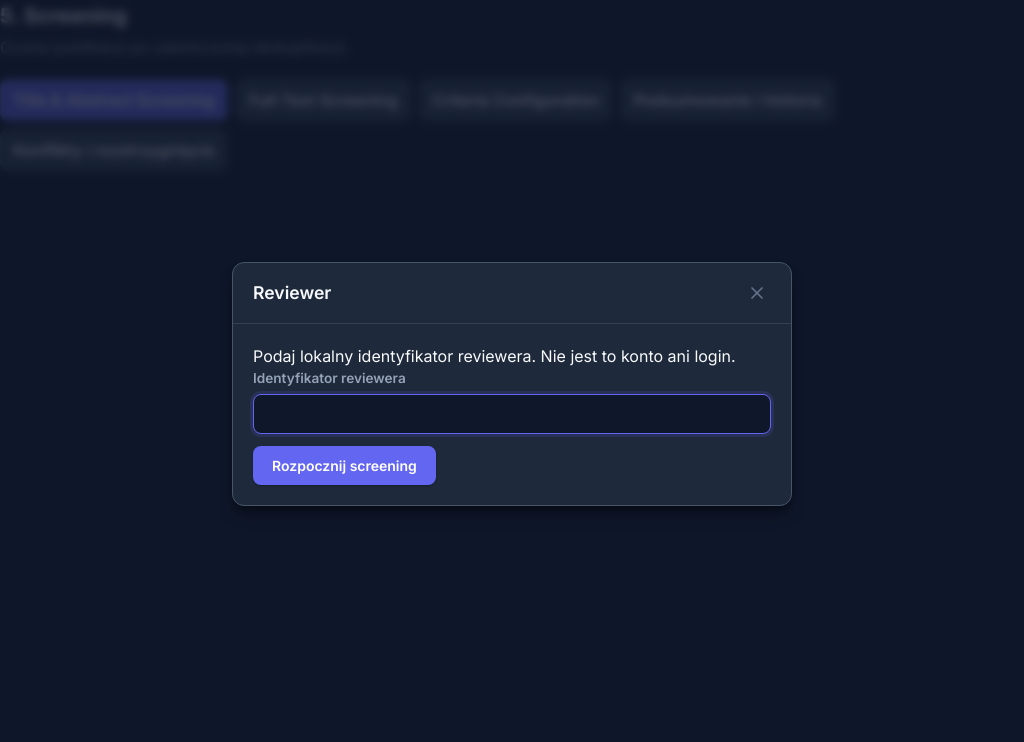
Test case: Title & Abstract Screening GUI (Phase 7.5C) › requires, trims, persists, and visibly allows changing local reviewer identity
The image size is (1024, 742).
Expected: the text "Podaj lokalny identyfikator reviewera. Nie jest to konto ani login." is shown, [253,344,771,368]
Click the button "Rozpocznij screening" at (344, 466), box [253,446,436,485]
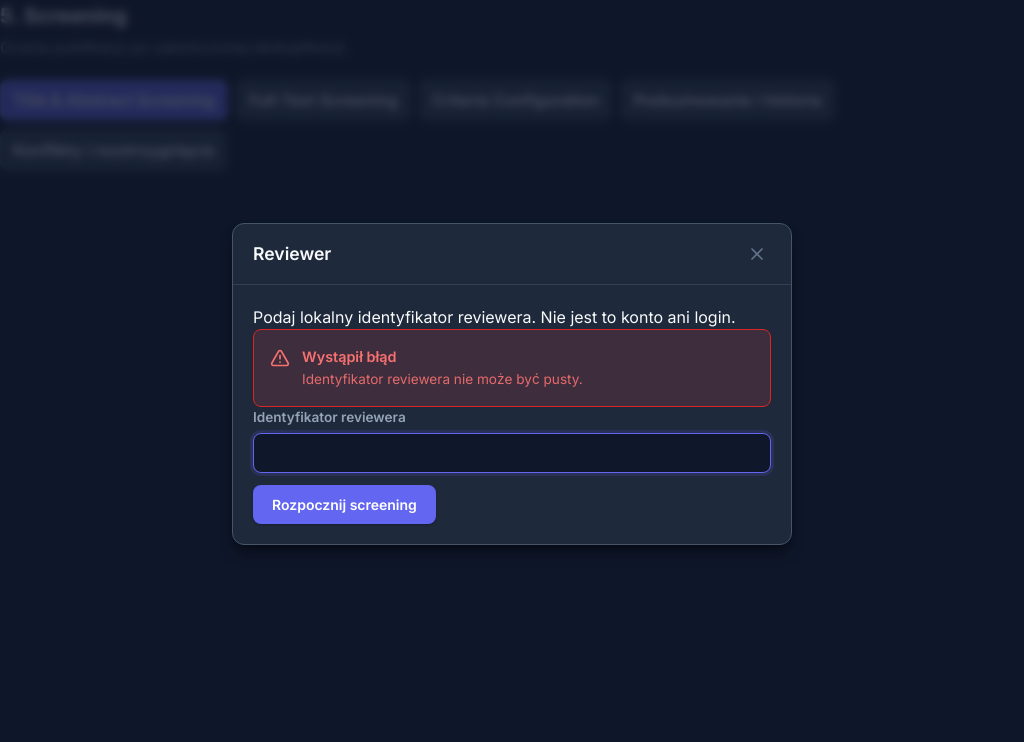
Now the text "Identyfikator reviewera nie może być pusty." is shown, box [302,371,583,387]
Type " reviewer-a " into the field named "Reviewer identifier" at (512, 453), box [253,433,771,473]
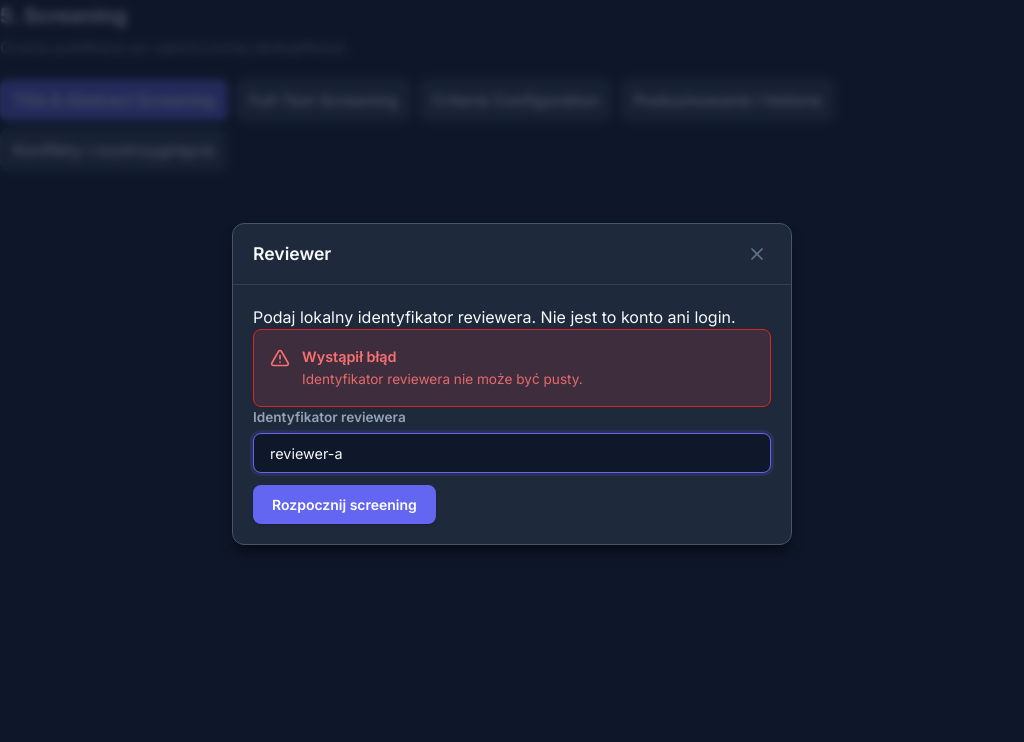
Click the button "Rozpocznij screening" at (344, 505), box [253,485,436,524]
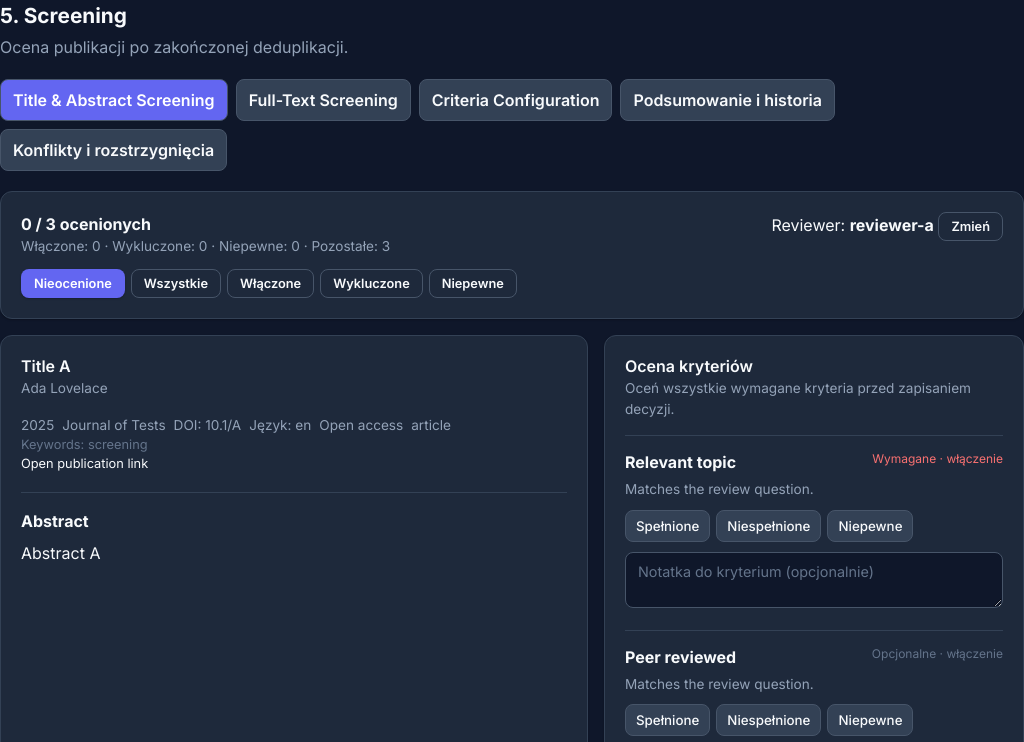
Now the heading "Title A" is shown, box [21,356,71,376]
Now the text "reviewer-a" is shown, box [850,215,934,235]
Now the text "Reviewer:" is shown, box [771,215,850,235]
Click the button "Zmień" at (971, 227), box [938,212,1003,241]
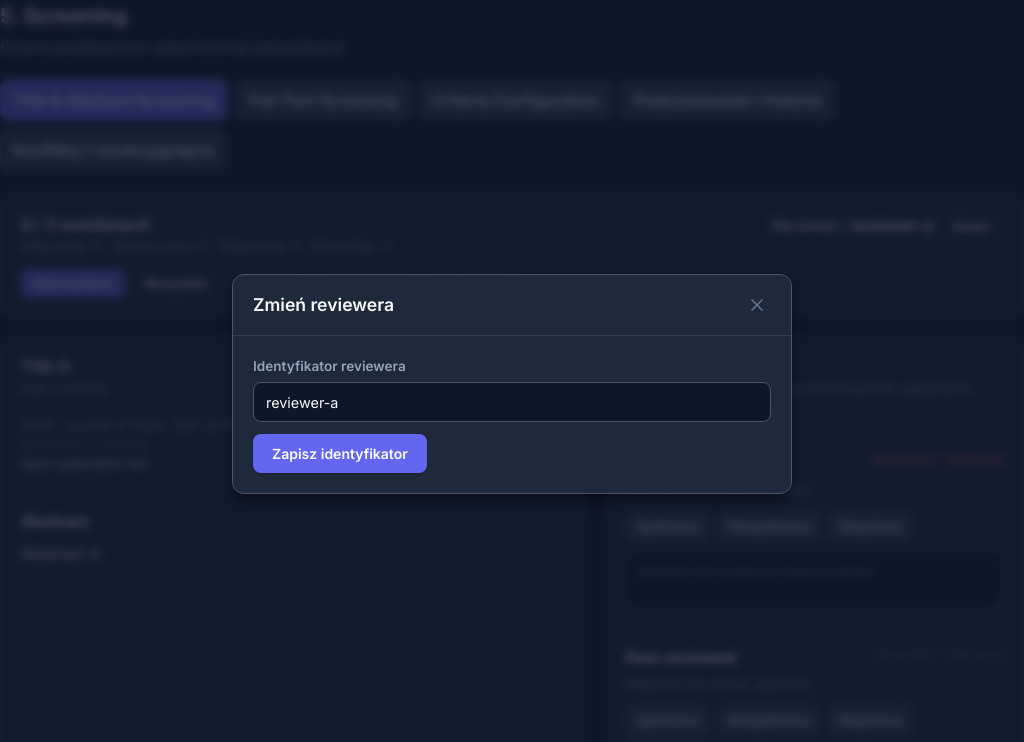
Now the heading "Zmień reviewera" is shown, box [253,292,394,318]
